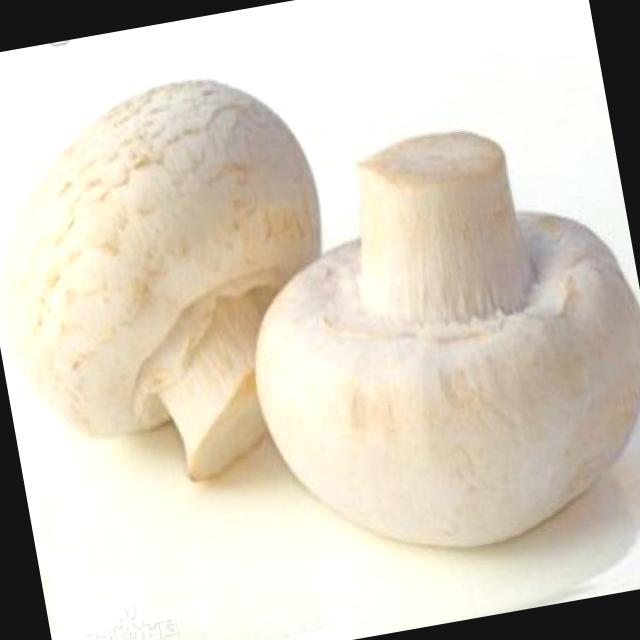Agaricus bisporus: (214, 105, 640, 585), (0, 60, 363, 508)
